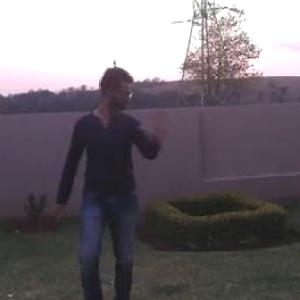follow_hand: (142, 101, 176, 142)
